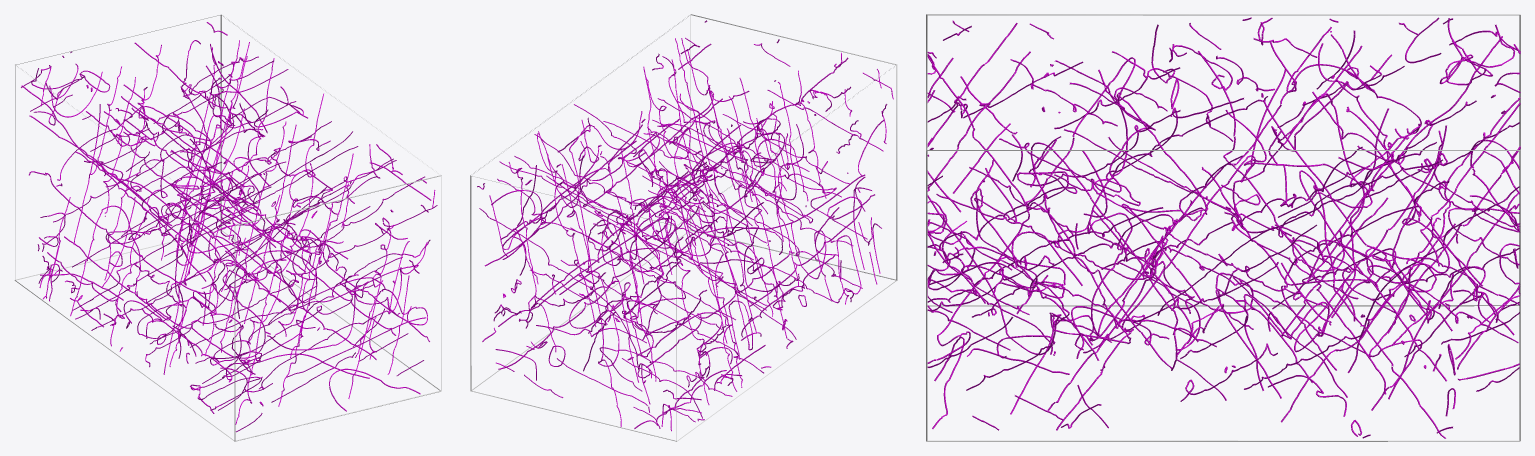
3 views of the same model, side by side, from view 1: azimuth 30°, elevation 25°; view 2: azimuth 150°, elevation 25°; view 3: azimuth 270°, elevation 25° (orthographic). The views are drawn at different scales.
Parts seen in each view (by area): view 1: Shape_IndexedLineSet.001, Shape_IndexedLineSet; view 2: Shape_IndexedLineSet.001, Shape_IndexedLineSet; view 3: Shape_IndexedLineSet.001, Shape_IndexedLineSet.
Part boxes in pixels (<box>): Shape_IndexedLineSet.001: <box>21,22,437,432</box>; Shape_IndexedLineSet: <box>14,14,441,441</box>; Shape_IndexedLineSet.001: <box>477,20,893,431</box>; Shape_IndexedLineSet: <box>470,14,897,441</box>; Shape_IndexedLineSet.001: <box>927,17,1520,438</box>; Shape_IndexedLineSet: <box>926,14,1520,441</box>.
Bounding box in the file's own units: 239 × 239 × 441.
